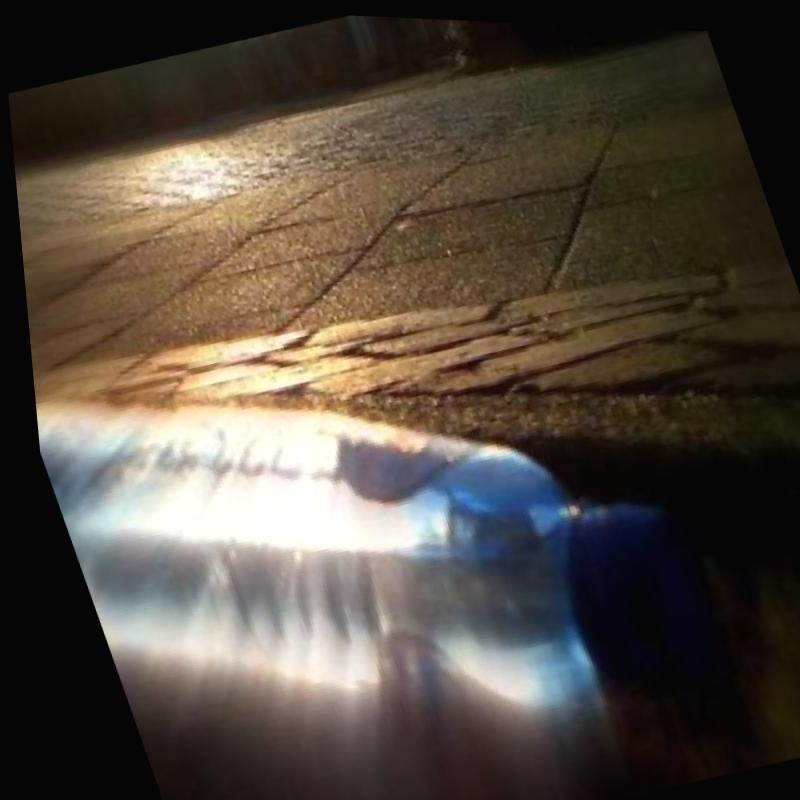botella: (17, 249, 750, 800)
